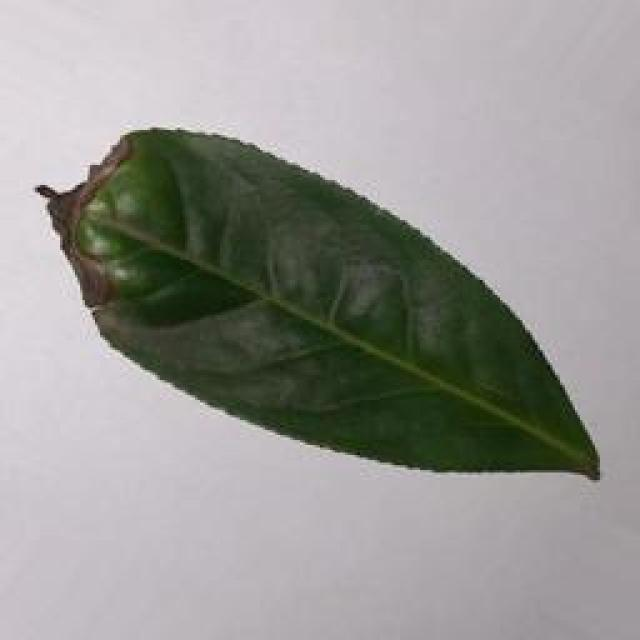Brown Blight: (22, 126, 616, 497)
